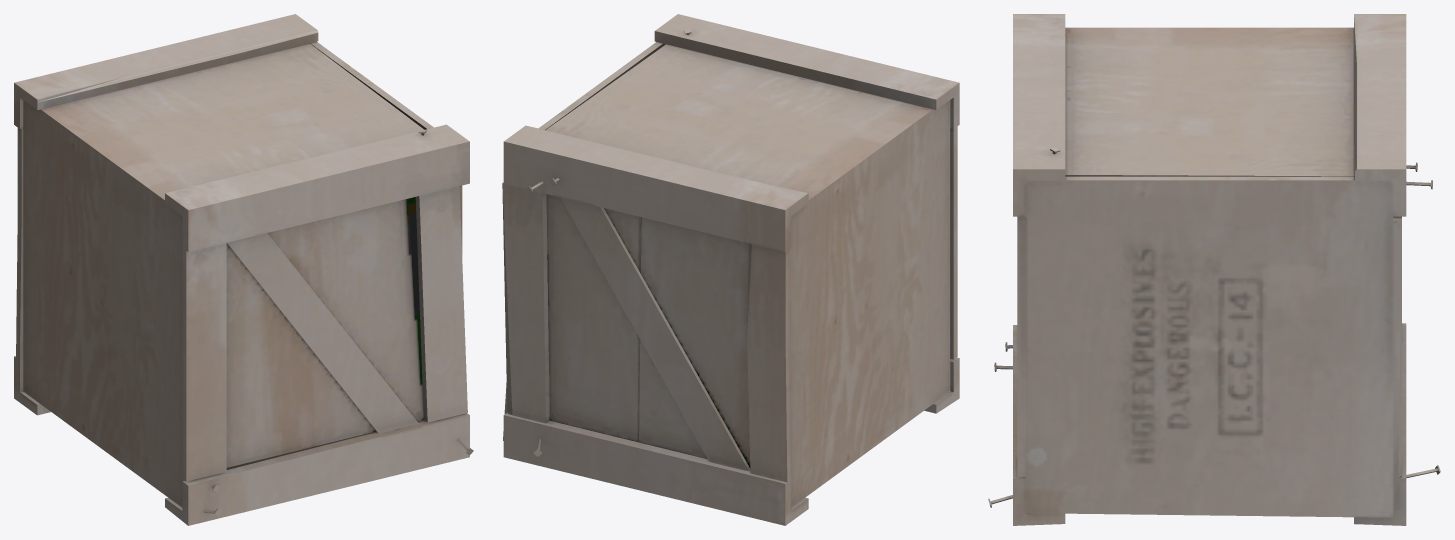
The model's file is props_2fort_miningcrate002.glb.
3 views of the same model, side by side, from view 1: azimuth 30°, elevation 25°; view 2: azimuth 150°, elevation 25°; view 3: azimuth 270°, elevation 25° (orthographic). The views are drawn at different scales.
Parts seen in each view (by area): view 1: models/props_2fort/miningcrate002; view 2: models/props_2fort/miningcrate002; view 3: models/props_2fort/miningcrate002.
Boxes of the visible parts, x1,y1,x2,y2 form: models/props_2fort/miningcrate002: (14, 14, 473, 525); models/props_2fort/miningcrate002: (502, 14, 959, 525); models/props_2fort/miningcrate002: (988, 14, 1440, 525).
Size of the model in its own units: 43 by 45.59 by 51.76.
1 material, 1 textured.
